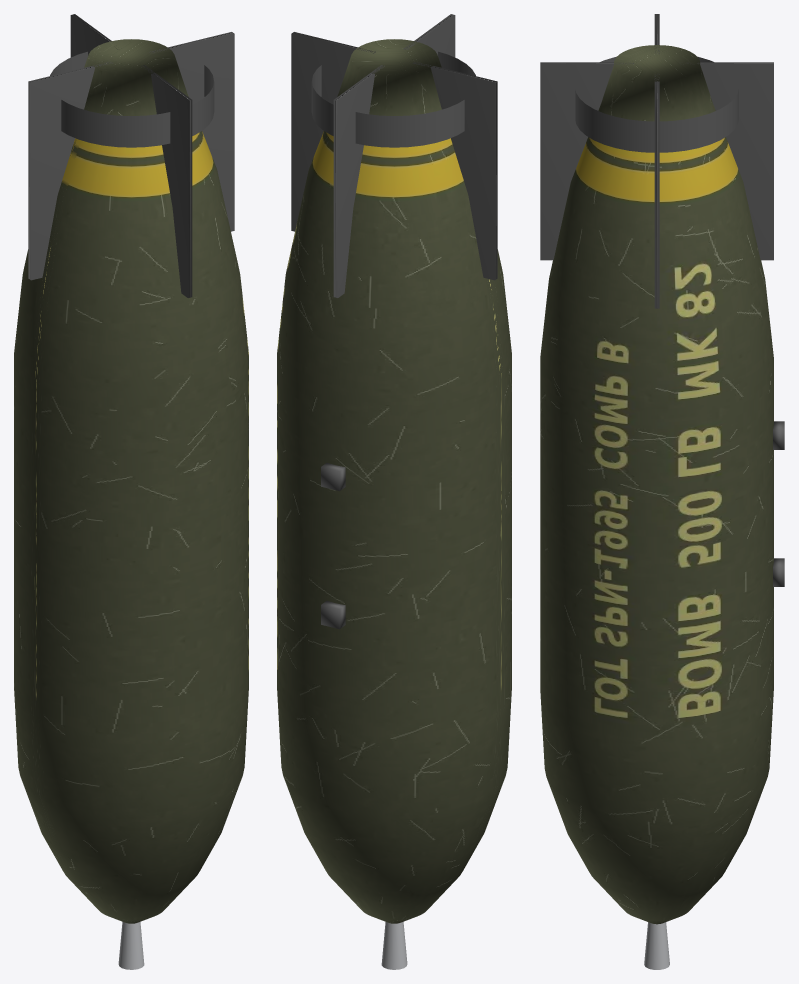
The model's file is props.glb.
3 views of the same model, side by side, from view 1: azimuth 30°, elevation 25°; view 2: azimuth 150°, elevation 25°; view 3: azimuth 270°, elevation 25° (orthographic).
Visible parts, largest first — view 1: BBody, BFin2, BFin0, BFinRing, BFin3, BFuze, BFin1; view 2: BBody, BFin2, BFin0, BFinRing, BFin1, BFuze, BFin3, BLug1, BLug-2; view 3: BBody, BFin3, BFin1, BFinRing, BFin0, BFuze.
Part boxes in pixels (x1=…): BBody: x1=14, y1=39, x2=248, y2=923; BFin2: x1=28, y1=62, x2=112, y2=280; BFin0: x1=149, y1=32, x2=234, y2=231; BFinRing: x1=50, y1=51, x2=214, y2=147; BFin3: x1=141, y1=65, x2=192, y2=297; BFuze: x1=118, y1=921, x2=144, y2=969; BFin1: x1=70, y1=14, x2=117, y2=57; BBody: x1=277, y1=39, x2=511, y2=923; BFin2: x1=412, y1=61, x2=497, y2=280; BFin0: x1=291, y1=32, x2=375, y2=231; BFinRing: x1=311, y1=51, x2=475, y2=147; BFin1: x1=333, y1=65, x2=384, y2=297; BFuze: x1=381, y1=921, x2=407, y2=969; BFin3: x1=403, y1=14, x2=455, y2=57; BLug1: x1=321, y1=463, x2=345, y2=491; BLug-2: x1=321, y1=601, x2=345, y2=629; BBody: x1=540, y1=45, x2=773, y2=924; BFin3: x1=540, y1=62, x2=633, y2=260; BFin1: x1=683, y1=62, x2=773, y2=260; BFinRing: x1=575, y1=56, x2=738, y2=152; BFin0: x1=654, y1=74, x2=659, y2=308; BFuze: x1=644, y1=922, x2=669, y2=969.
Size of the model in its own units: 0.5401 by 2.3 by 0.565.
6 materials, 3 textured.
